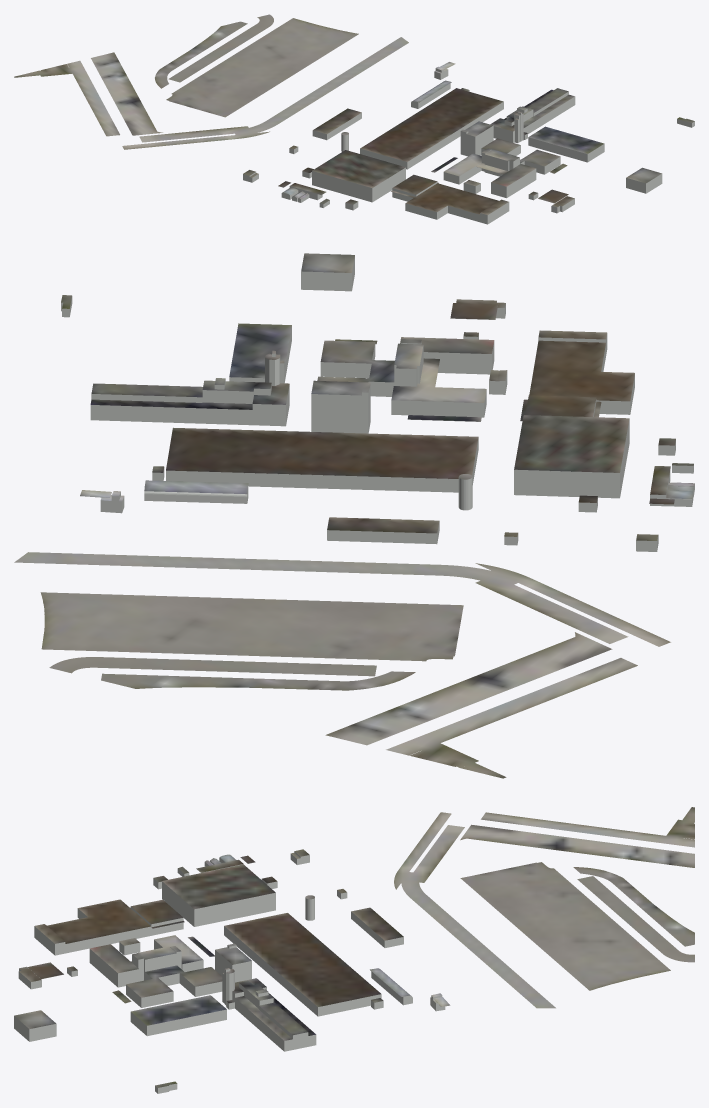
The model's file is LSZH_0_-3.glb.
The picture shows the model from 3 angles, top to bottom: view 1: azimuth 30°, elevation 25°; view 2: azimuth 150°, elevation 25°; view 3: azimuth 270°, elevation 25°; orthographic projection. The views are drawn at different scales.
Visible parts, largest first — view 1: pavement_LSZH_pavement_5367_2511, building_48b1460a674f4d01, building_50e77063e0bc040c, building_629b6a11cdacd0d4, building_fef7ec12ec70f466, building_29f887337091bf9e, building_34227badca1a7d14, building_9fa690f2174dfc87, building_5c9e927fb9203fbb, building_9252537e12f9b3ae, building_04afdc2d0144371e, building_1b35977854237e0a (+2 smaller); view 2: pavement_LSZH_pavement_5367_2511, building_48b1460a674f4d01, building_29f887337091bf9e, building_50e77063e0bc040c, building_629b6a11cdacd0d4, building_fef7ec12ec70f466, building_34227badca1a7d14, building_9fa690f2174dfc87, building_9252537e12f9b3ae, building_54ed235419215252, building_1b35977854237e0a, building_b75a26975b5af361 (+5 smaller); view 3: pavement_LSZH_pavement_5367_2511, building_48b1460a674f4d01, building_50e77063e0bc040c, building_629b6a11cdacd0d4, building_fef7ec12ec70f466, building_29f887337091bf9e, building_34227badca1a7d14, building_9fa690f2174dfc87, building_5c9e927fb9203fbb, building_9252537e12f9b3ae, building_04afdc2d0144371e, building_1b35977854237e0a (+3 smaller).
Boxes of the visible parts, x1=… form: pavement_LSZH_pavement_5367_2511: x1=14, y1=14, x2=408, y2=149; building_48b1460a674f4d01: x1=360, y1=88, x2=574, y2=161; building_50e77063e0bc040c: x1=444, y1=121, x2=604, y2=186; building_629b6a11cdacd0d4: x1=443, y1=126, x2=604, y2=198; building_fef7ec12ec70f466: x1=391, y1=174, x2=508, y2=215; building_29f887337091bf9e: x1=360, y1=90, x2=575, y2=169; building_34227badca1a7d14: x1=312, y1=150, x2=480, y2=204; building_9fa690f2174dfc87: x1=312, y1=167, x2=480, y2=210; building_5c9e927fb9203fbb: x1=392, y1=182, x2=509, y2=224; building_9252537e12f9b3ae: x1=529, y1=163, x2=661, y2=207; building_04afdc2d0144371e: x1=528, y1=174, x2=662, y2=213; building_1b35977854237e0a: x1=313, y1=108, x2=361, y2=134; pavement_LSZH_pavement_5367_2511: x1=14, y1=552, x2=670, y2=778; building_48b1460a674f4d01: x1=90, y1=350, x2=478, y2=479; building_29f887337091bf9e: x1=90, y1=353, x2=478, y2=492; building_50e77063e0bc040c: x1=229, y1=323, x2=494, y2=403; building_629b6a11cdacd0d4: x1=229, y1=327, x2=494, y2=433; building_fef7ec12ec70f466: x1=520, y1=330, x2=634, y2=421; building_34227badca1a7d14: x1=407, y1=370, x2=675, y2=473; building_9fa690f2174dfc87: x1=489, y1=371, x2=675, y2=498; building_9252537e12f9b3ae: x1=301, y1=253, x2=505, y2=344; building_54ed235419215252: x1=80, y1=480, x2=248, y2=501; building_1b35977854237e0a: x1=327, y1=517, x2=439, y2=533; building_b75a26975b5af361: x1=327, y1=521, x2=439, y2=544; pavement_LSZH_pavement_5367_2511: x1=394, y1=807, x2=694, y2=1008; building_48b1460a674f4d01: x1=222, y1=913, x2=383, y2=1041; building_50e77063e0bc040c: x1=89, y1=935, x2=251, y2=1025; building_629b6a11cdacd0d4: x1=89, y1=940, x2=251, y2=1036; building_fef7ec12ec70f466: x1=34, y1=899, x2=184, y2=944; building_29f887337091bf9e: x1=222, y1=926, x2=383, y2=1051; building_34227badca1a7d14: x1=119, y1=864, x2=275, y2=956; building_9fa690f2174dfc87: x1=119, y1=878, x2=275, y2=955; building_5c9e927fb9203fbb: x1=34, y1=907, x2=183, y2=955; building_9252537e12f9b3ae: x1=14, y1=962, x2=131, y2=1029; building_04afdc2d0144371e: x1=14, y1=968, x2=77, y2=1041; building_1b35977854237e0a: x1=351, y1=907, x2=403, y2=940.
Size of the model in its own units: 559 by 34.97 by 571.
3 materials, 2 textured.
